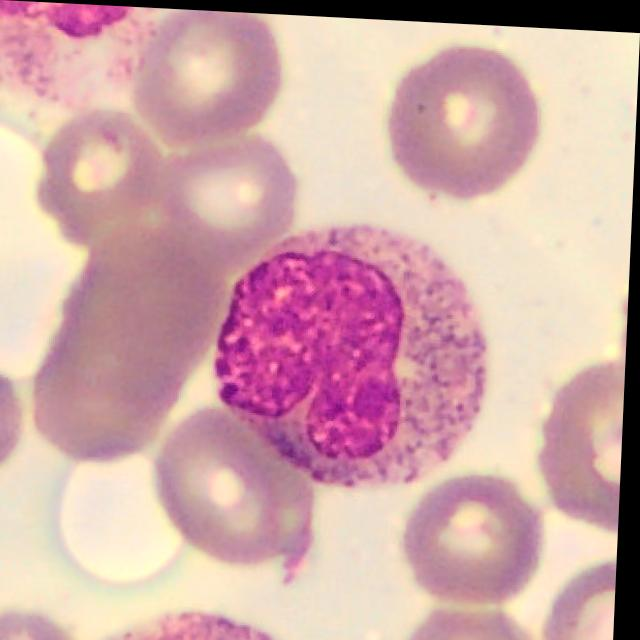Metamielocito: (222, 219, 493, 490)
